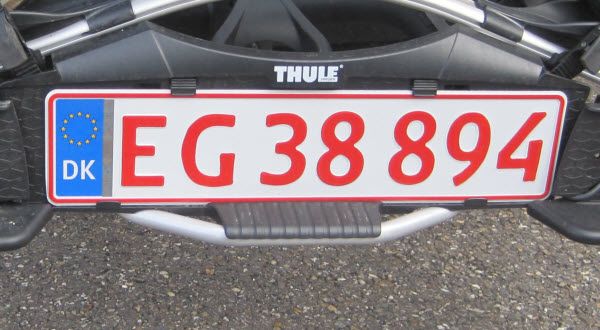license_plate: (46, 90, 567, 205)
